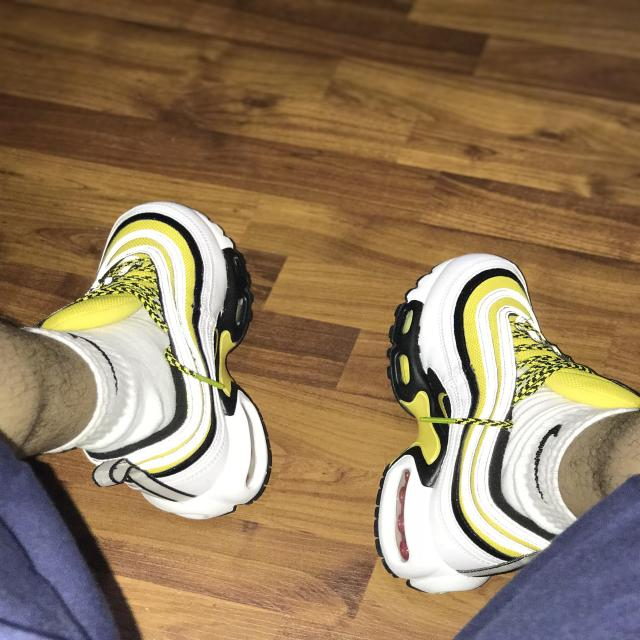shoe: (354, 244, 640, 604), (20, 197, 282, 533)
